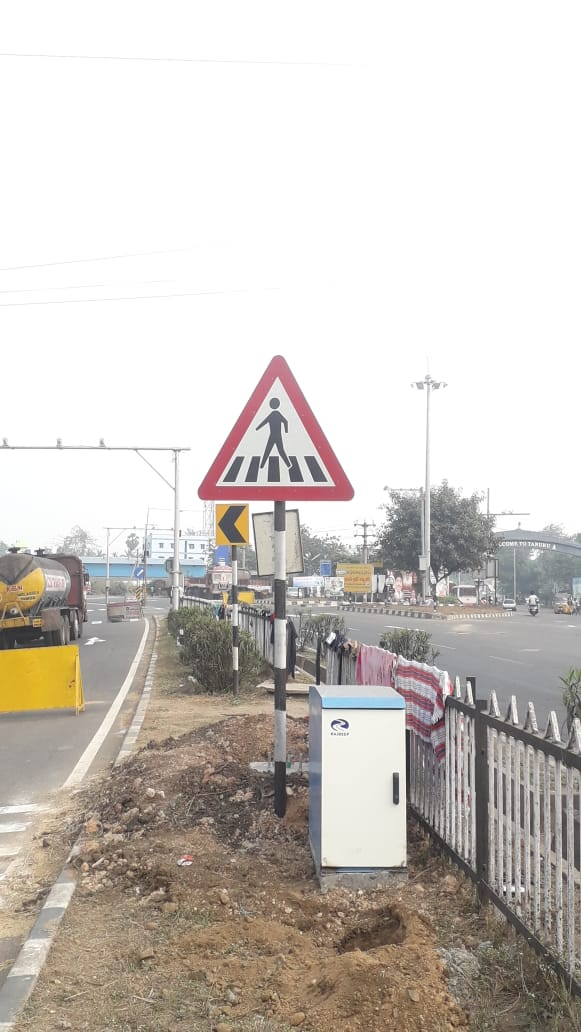pedestrian crossing: (187, 351, 359, 513)
